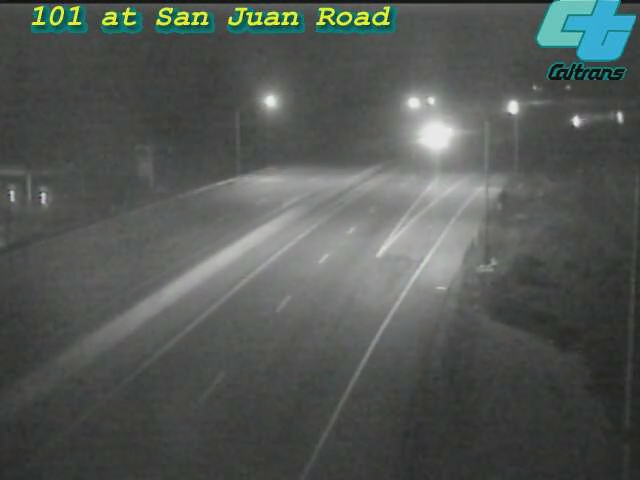vehicle: (411, 109, 461, 159), (555, 97, 605, 147), (487, 83, 537, 133)
